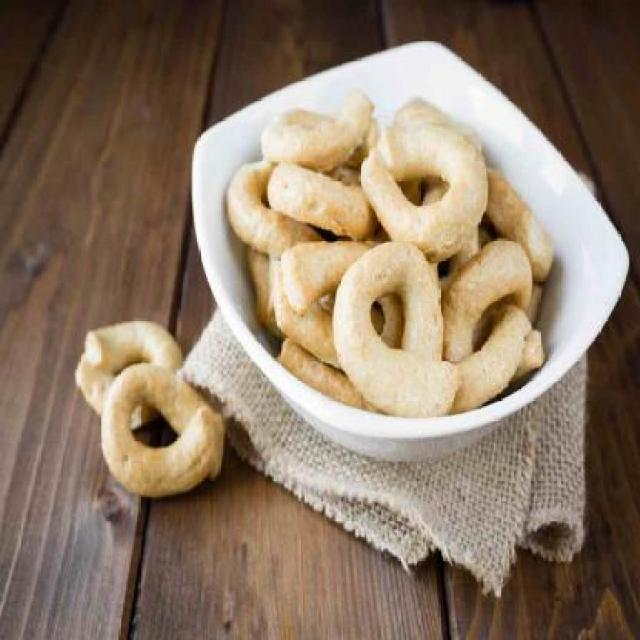Taralli: (223, 86, 554, 420), (73, 316, 235, 498)
